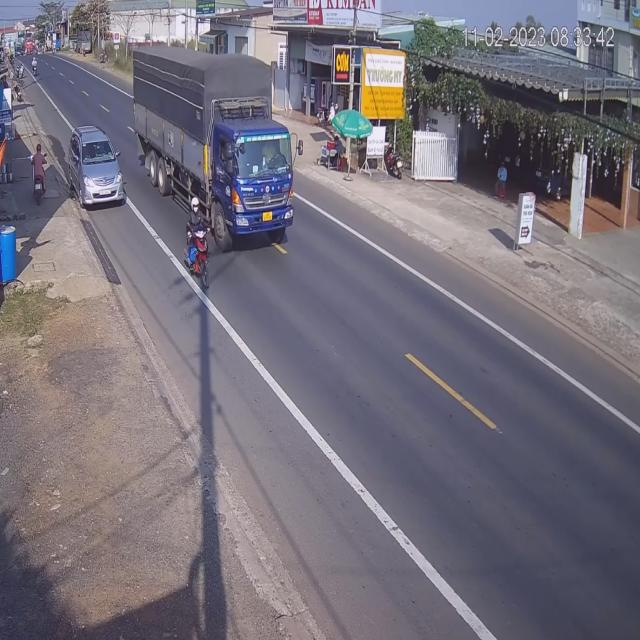car: (68, 125, 125, 208)
motorbike: (185, 199, 211, 291)
truck: (136, 51, 301, 249)
